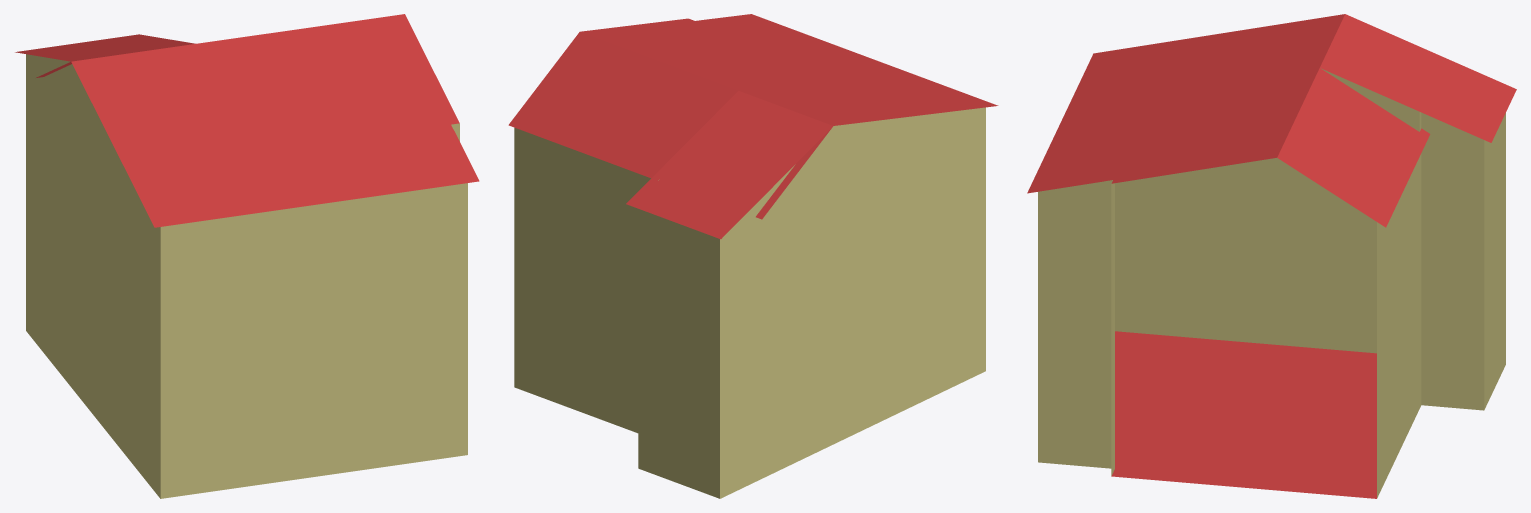
3 renders of one model, left to right at view 1: azimuth 30°, elevation 25°; view 2: azimuth 150°, elevation 25°; view 3: azimuth 270°, elevation 25°, orthographic. The views are drawn at different scales.
Bounding box in the file's own units: 11.22 × 13.33 × 9.99.
